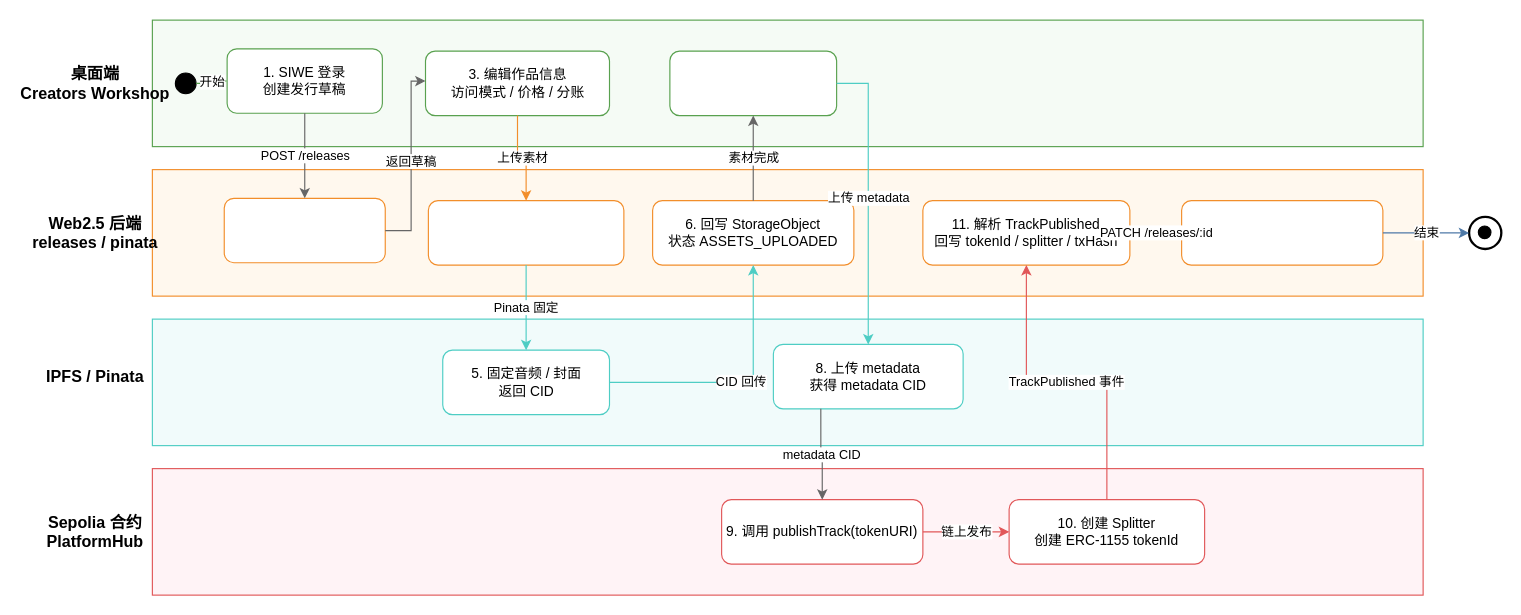
Some shapes in this 1521 by 615 pixel diagram are drawn without their labels. The centre of each missing label's shape, as x and y in pixels:
"12. 状态 PUBLISHED 进入 resources/search" goes at point 1281,232.
"2. 保存 CreatorRelease 状态 DRAFT" goes at point 304,230.
"4. 代理上传音频和封面 /storage/pinata/files" goes at point 525,232.
"7. 生成 metadata JSON" goes at point 753,83.
